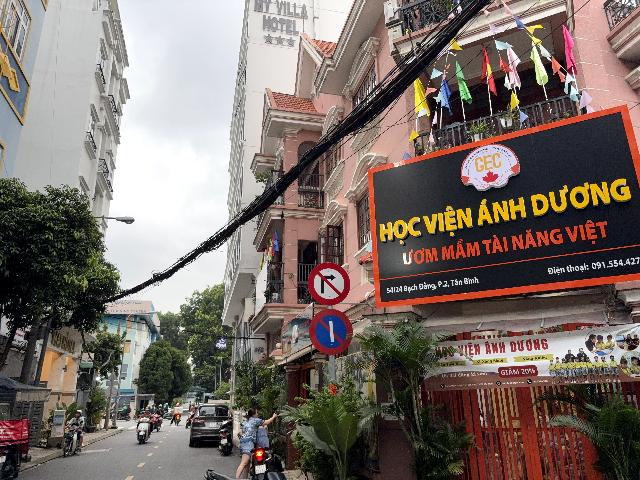cam-do-xe-ngay-le: (309, 308, 353, 355)
cam-re-phai: (308, 262, 350, 305)
